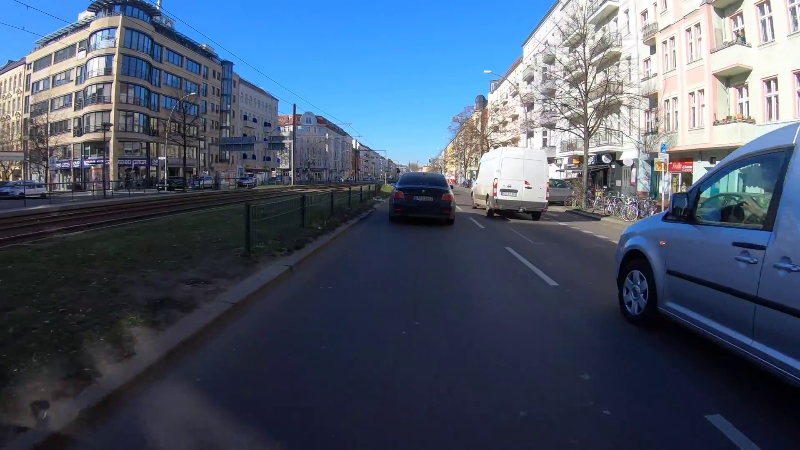Plate: (410, 194, 435, 202), (499, 188, 520, 196)
